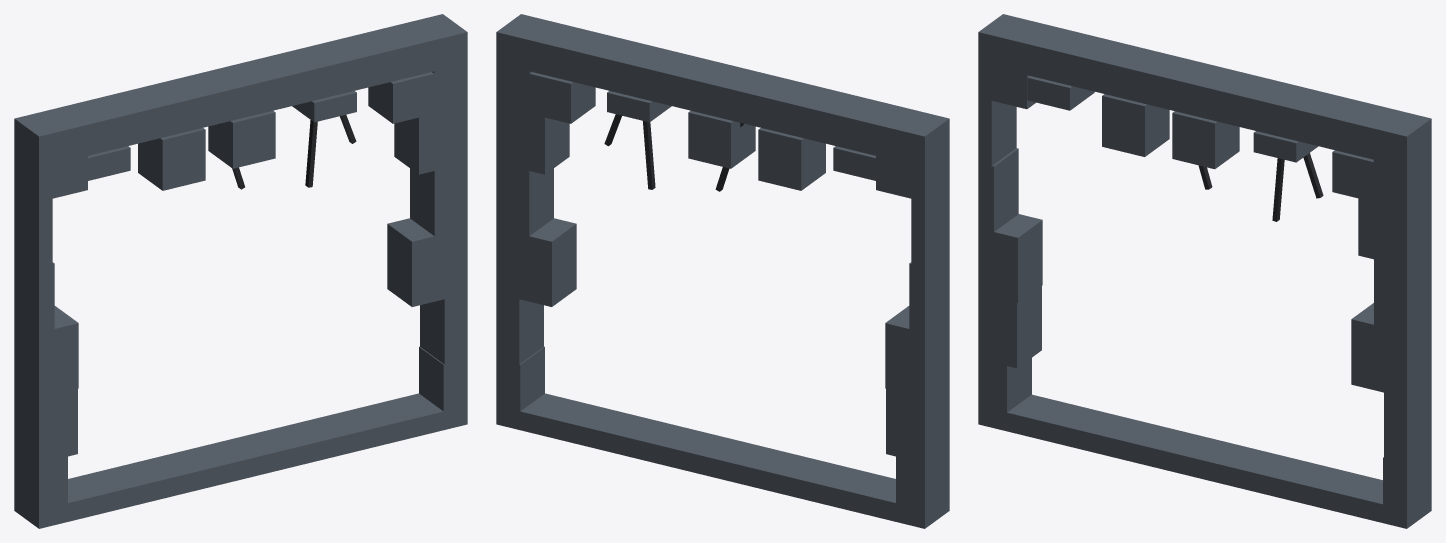
File: cg_holeo.glb
The picture shows the model from 3 angles, left to right: view 1: azimuth 30°, elevation 25°; view 2: azimuth 150°, elevation 25°; view 3: azimuth 330°, elevation 25°; orthographic projection.
Visible parts, largest first — view 1: city_cg_holeo; view 2: city_cg_holeo; view 3: city_cg_holeo.
Boxes of the visible parts, box(x1,y1,x2,y2) form: city_cg_holeo: box(14, 14, 467, 528); city_cg_holeo: box(496, 14, 949, 528); city_cg_holeo: box(978, 14, 1431, 528).
Size of the model in its own units: 4 by 3.5 by 0.4.
Materials: 2 (2 with a texture image).
